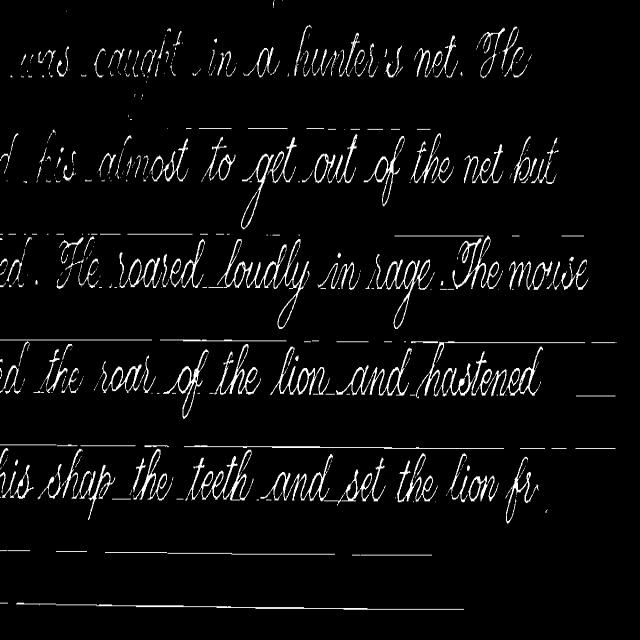noise: (15, 601, 464, 612), (54, 547, 338, 558), (184, 444, 506, 451), (404, 340, 588, 345), (339, 548, 432, 557), (156, 338, 286, 343), (0, 442, 136, 446), (576, 391, 616, 404), (0, 338, 155, 341), (570, 445, 615, 451), (394, 235, 484, 238), (0, 547, 32, 555), (334, 340, 392, 344), (128, 233, 192, 236), (590, 340, 616, 346), (520, 446, 548, 451), (0, 230, 16, 238), (552, 445, 568, 452), (336, 340, 371, 343), (144, 444, 170, 448), (100, 233, 119, 236), (304, 340, 324, 342), (0, 601, 9, 605), (511, 235, 520, 238), (560, 235, 584, 236), (200, 233, 208, 236)
not-noise: (22, 127, 558, 206), (20, 25, 532, 99), (0, 448, 444, 516), (0, 345, 540, 398), (316, 252, 588, 292), (56, 252, 311, 290), (223, 237, 308, 328), (444, 453, 500, 503), (56, 235, 98, 288), (505, 457, 538, 522), (453, 236, 490, 288), (0, 234, 36, 287), (0, 341, 29, 393), (56, 237, 84, 288), (221, 238, 242, 285), (0, 258, 26, 287), (194, 239, 204, 267), (0, 446, 8, 475), (338, 252, 341, 257), (194, 281, 196, 286)
